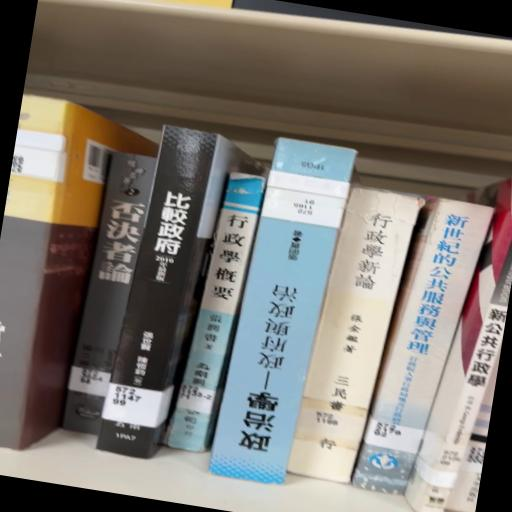reverse: (209, 138, 357, 485)
